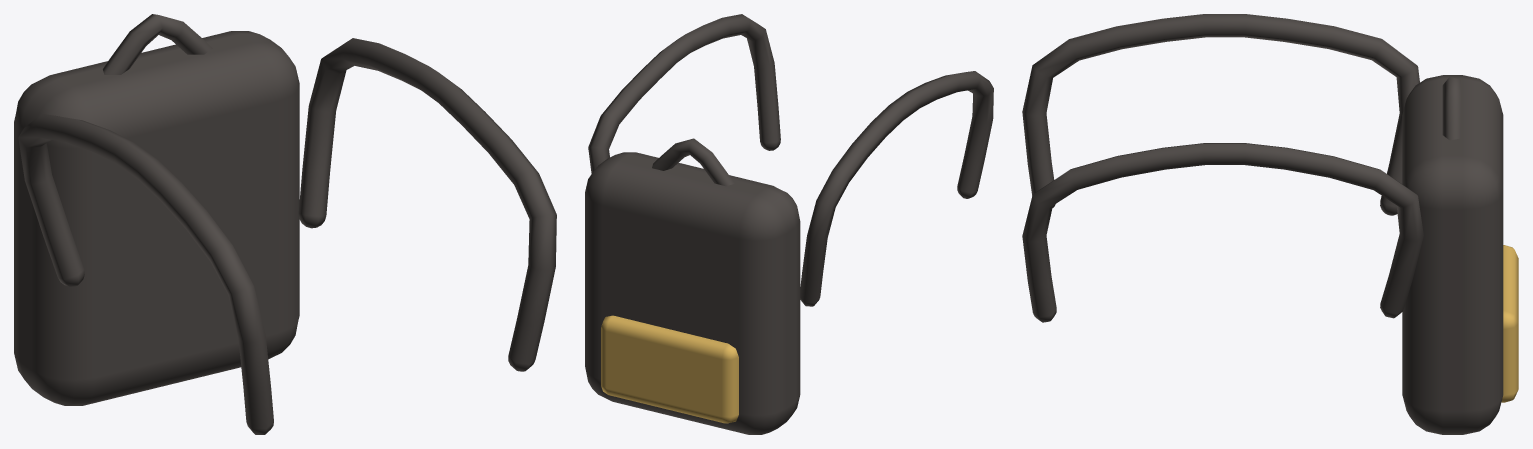
Rendered from delivery_bag.glb.
The picture shows the model from 3 angles, left to right: view 1: azimuth 30°, elevation 25°; view 2: azimuth 150°, elevation 25°; view 3: azimuth 270°, elevation 25°; orthographic projection. The views are drawn at different scales.
Visible parts, largest first — view 1: delivery_bag_Body; view 2: delivery_bag_Body; view 3: delivery_bag_Body.
Part boxes in pixels (x1,y1,x2,y2): delivery_bag_Body: (14, 14, 556, 434); delivery_bag_Body: (585, 14, 993, 434); delivery_bag_Body: (1022, 14, 1518, 434).
Bounding box in the file's own units: 0.327 × 0.3445 × 0.4902.
